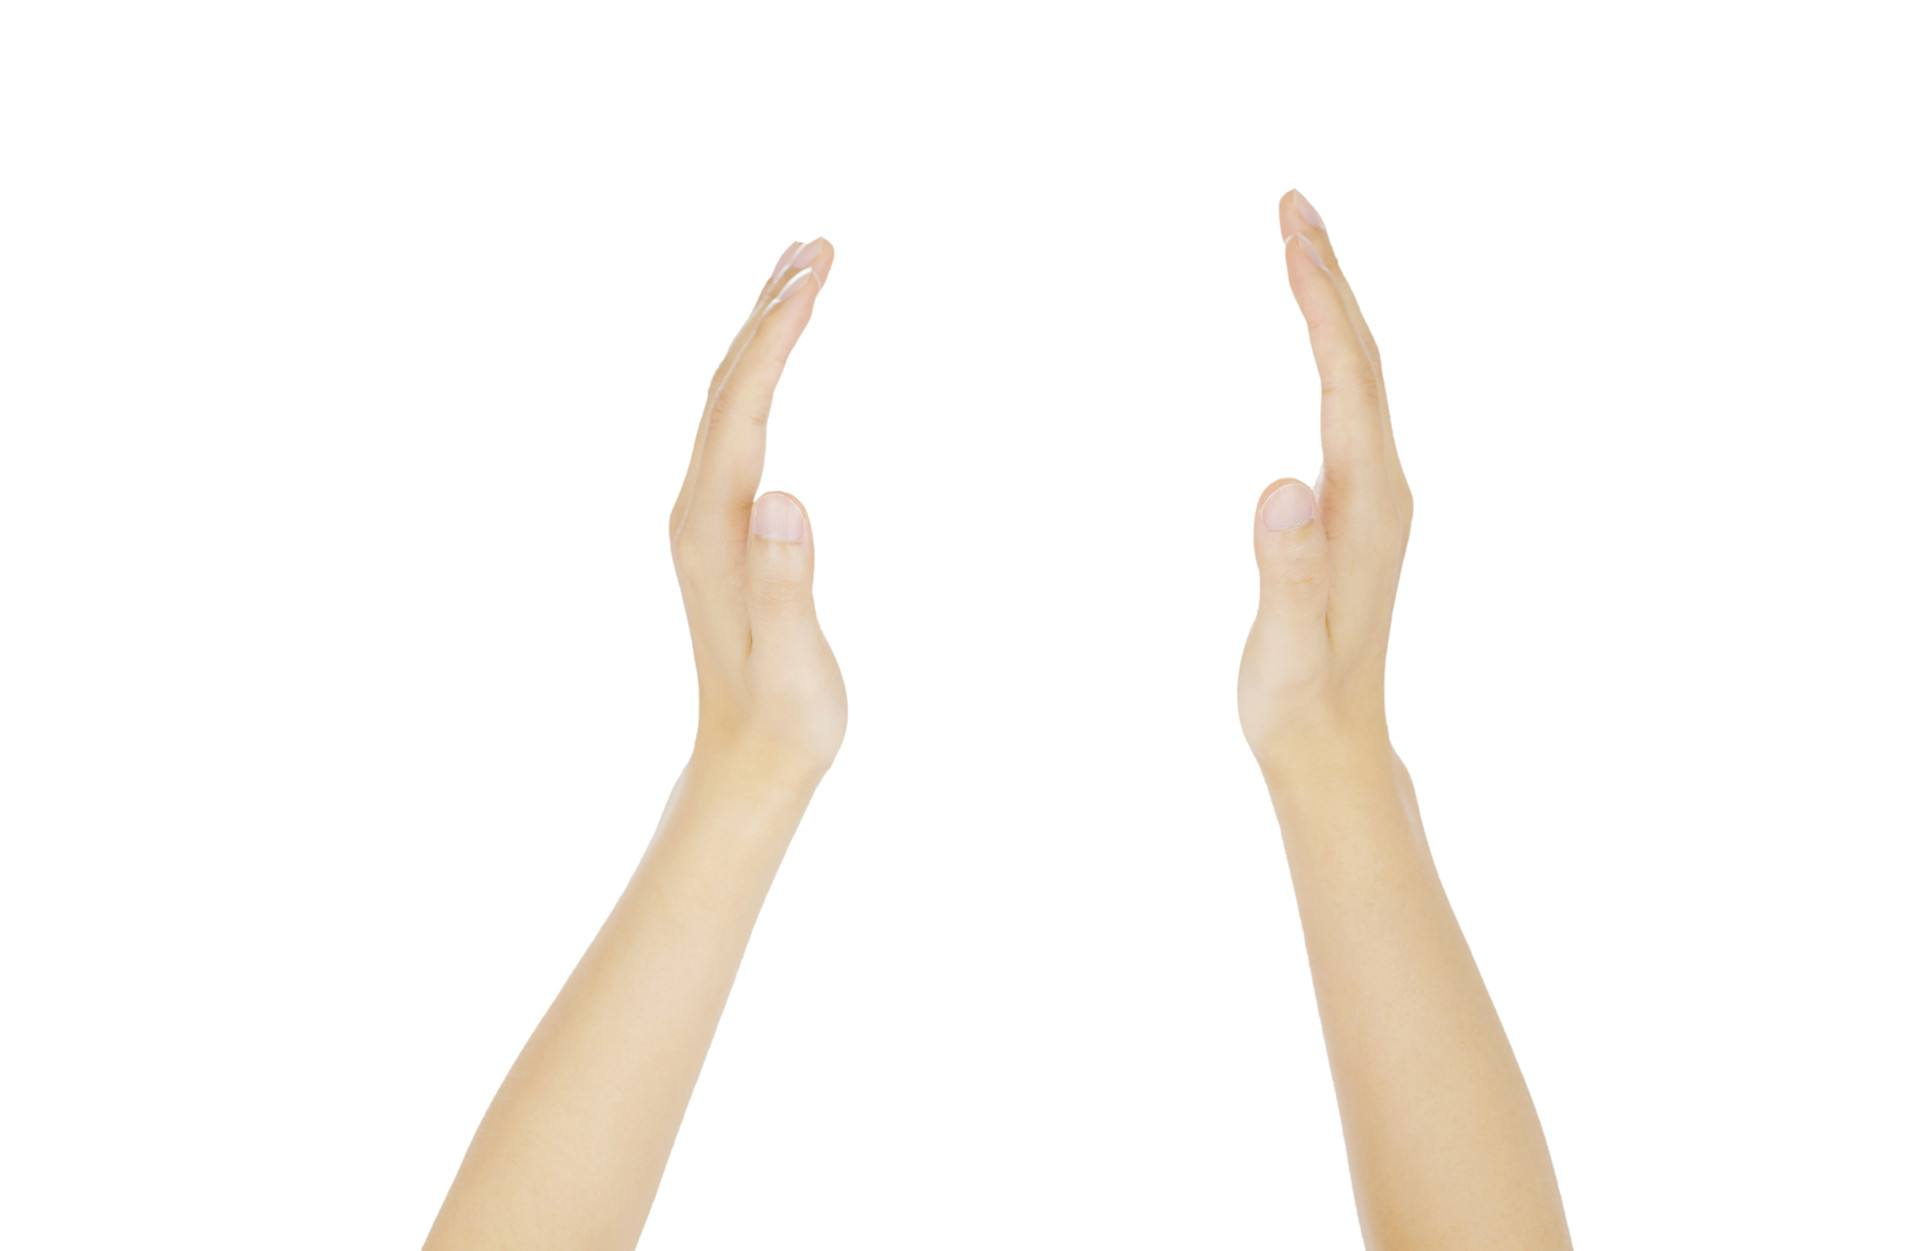no-phone: (655, 221, 873, 778), (1223, 181, 1419, 756)
